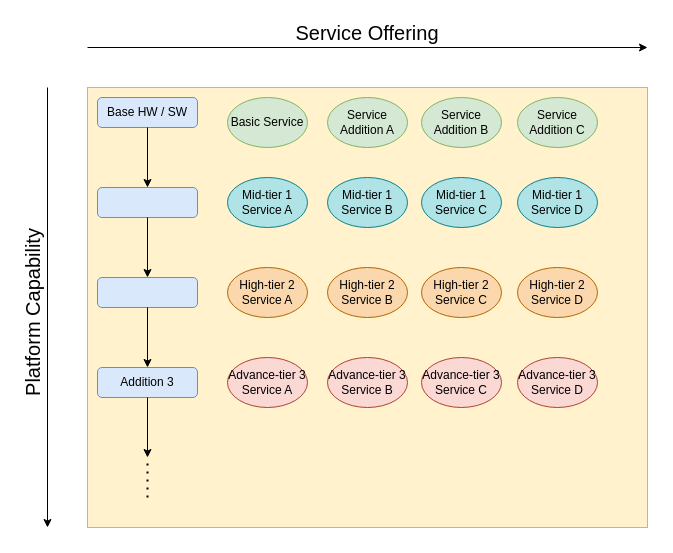
Some shapes in this 673 by 553 pixel diagram are drawn without their labels. Here are the shapes that lost their labels. From the top down, the centre of each, then its label:
the point at 147,202: Addition 1
the point at 147,292: Addition 2
